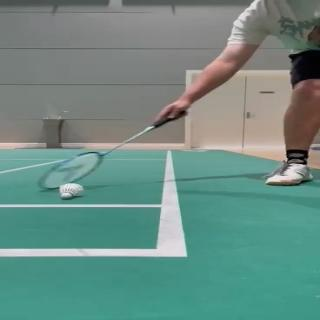Shuttle: (59, 183, 84, 200)
